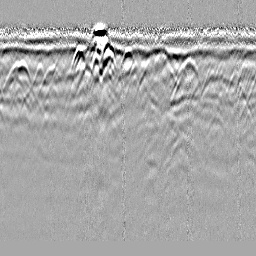cavity: (119, 46, 137, 69)
